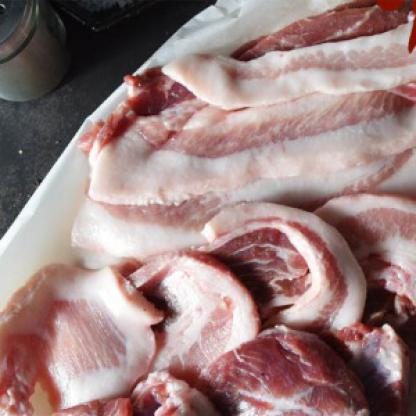pork: (65, 15, 415, 415)
